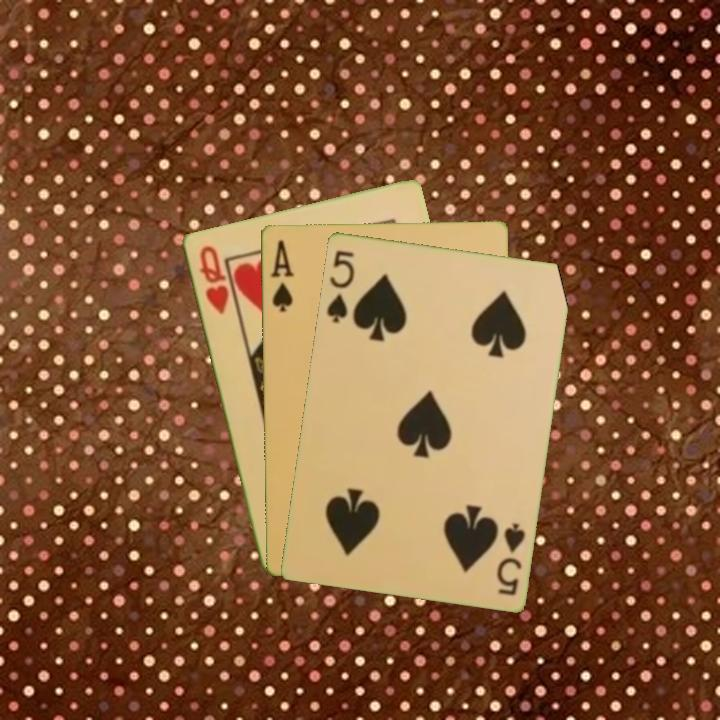5s: (492, 519, 528, 598), (323, 246, 357, 325)
As: (267, 236, 297, 314)
Qh: (195, 241, 231, 317)
